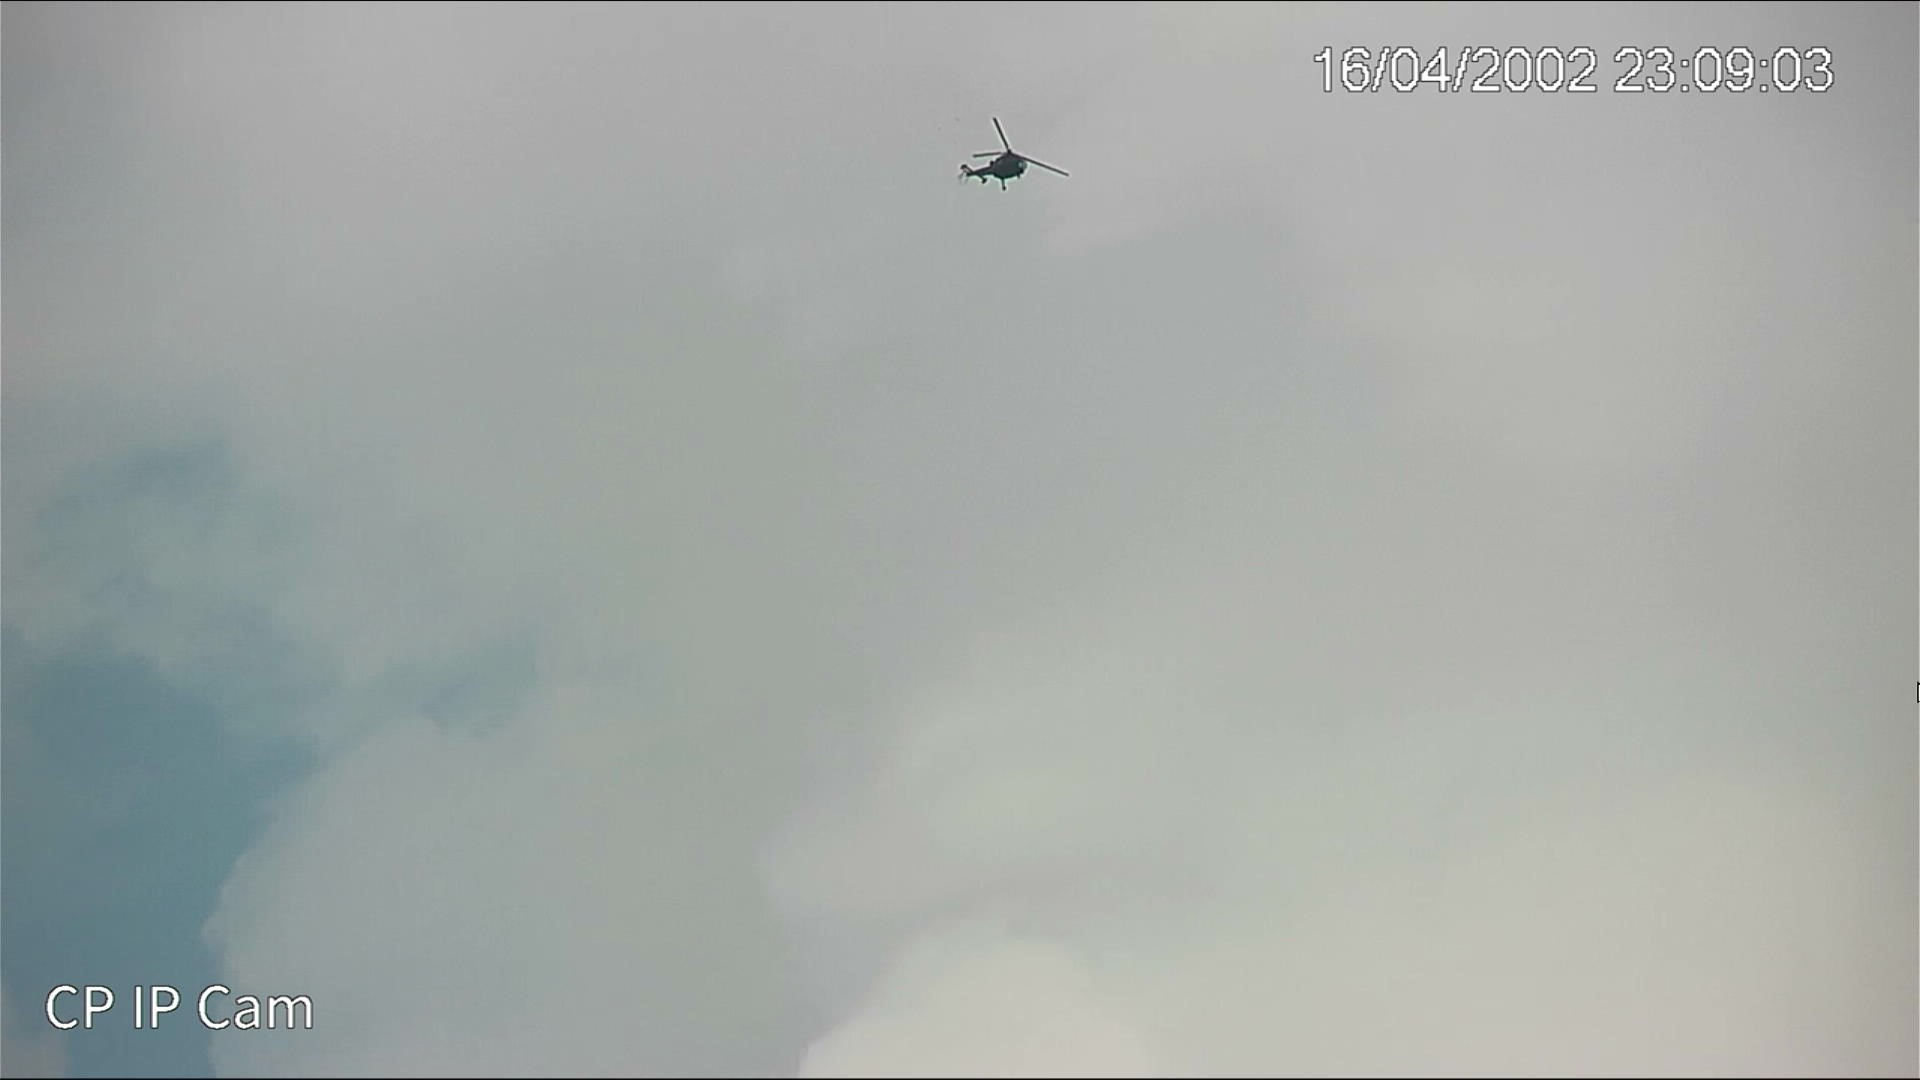SU_30: (949, 142, 1047, 193)
